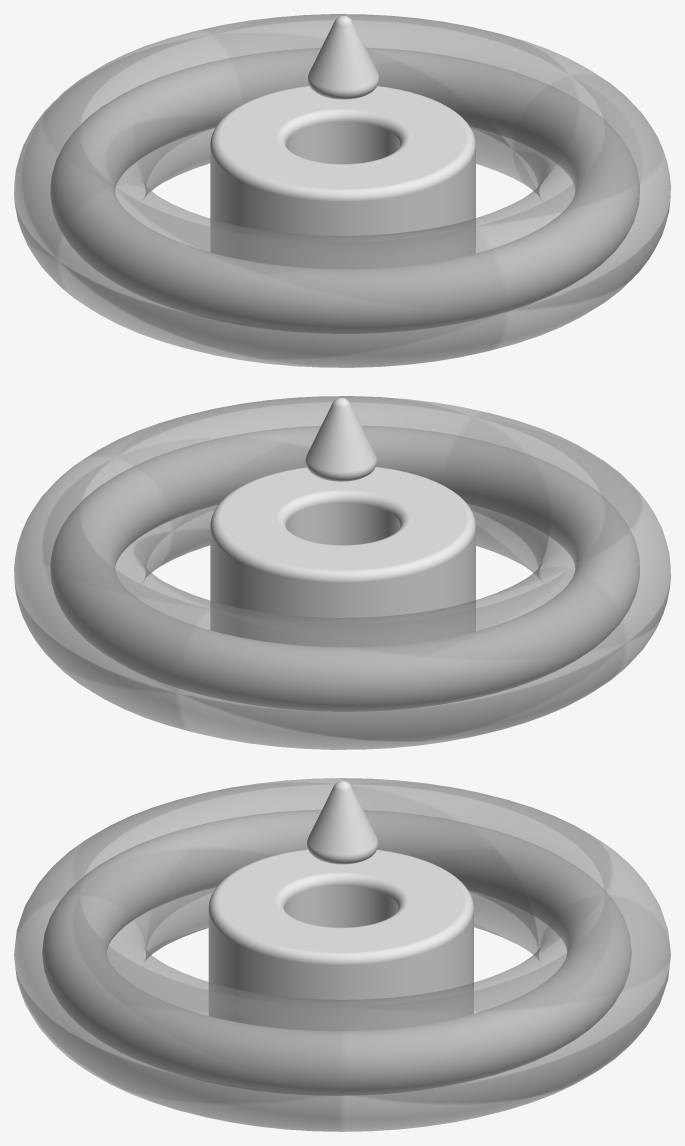
The model's file is GlassDougnutCommunicationUnit-gry-v59.glb.
The picture shows the model from 3 angles, top to bottom: view 1: azimuth 30°, elevation 25°; view 2: azimuth 150°, elevation 25°; view 3: azimuth 270°, elevation 25°; orthographic projection.
Visible parts, largest first — view 1: Torus, Merged Objects 9; view 2: Torus, Merged Objects 9; view 3: Torus, Merged Objects 9.
Part boxes in pixels (box(x1,y1,x2,y2)): Torus: box(14, 14, 670, 367); Merged Objects 9: box(50, 15, 639, 333); Torus: box(14, 396, 670, 749); Merged Objects 9: box(50, 397, 639, 711); Torus: box(14, 778, 670, 1131); Merged Objects 9: box(42, 780, 631, 1095).
Size of the model in its own units: 2.7 by 1.09 by 2.7.
Materials: 2 (1 with a texture image).
